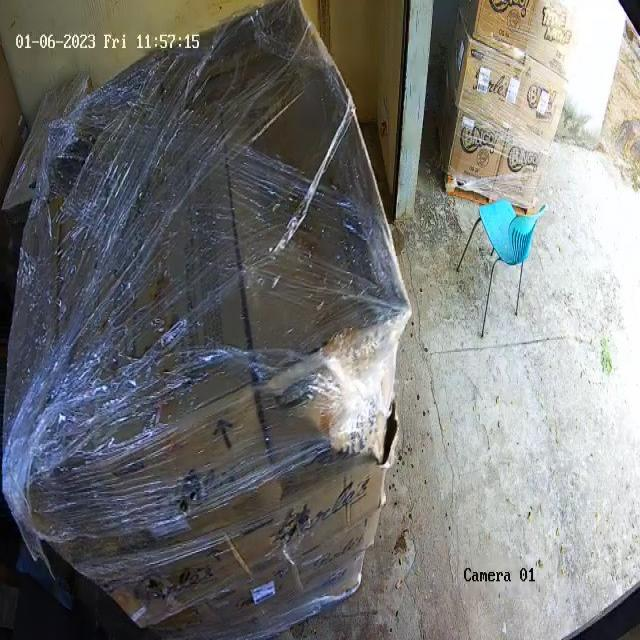leakage: (282, 498, 313, 564), (174, 475, 203, 517)
squeeze: (322, 308, 405, 458)
